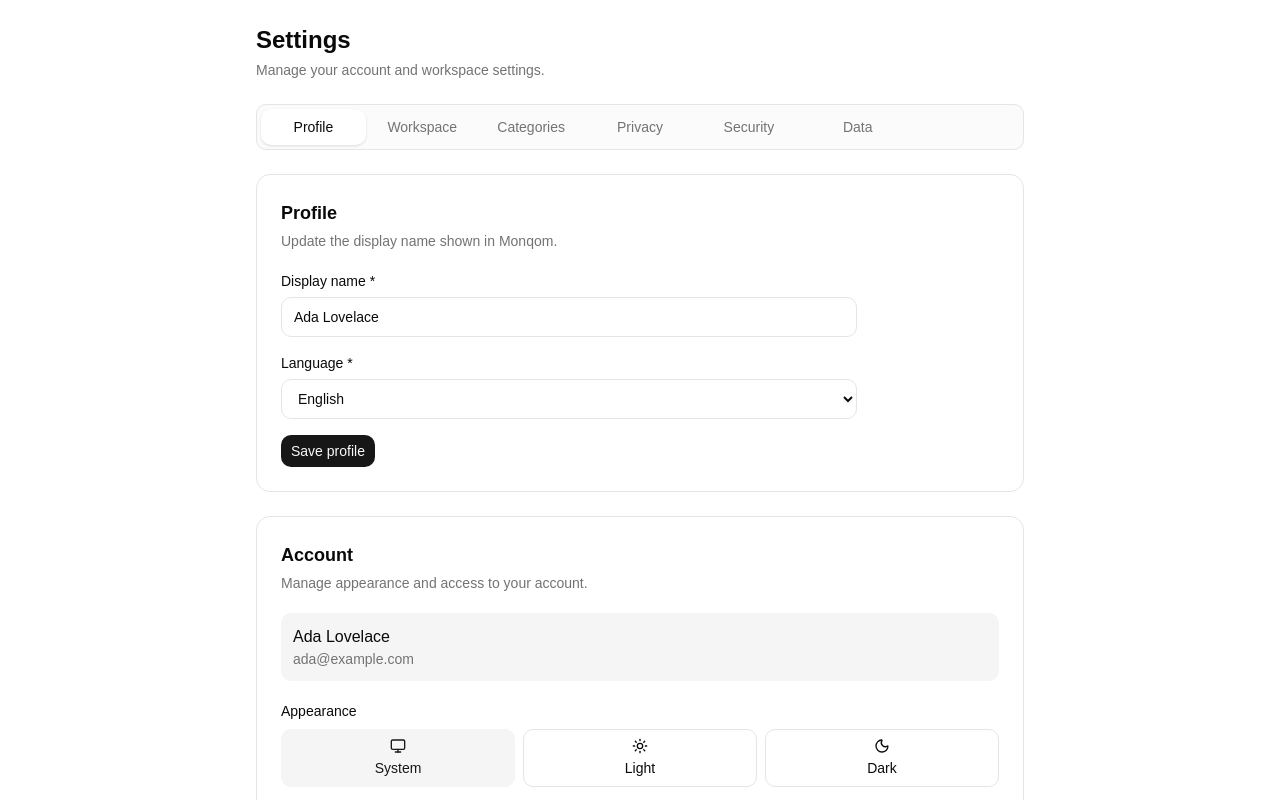
SettingsPage › saves workspace name and timezone
Click the button "Workspace".
click(422, 127)  # box [370,109,475,145]
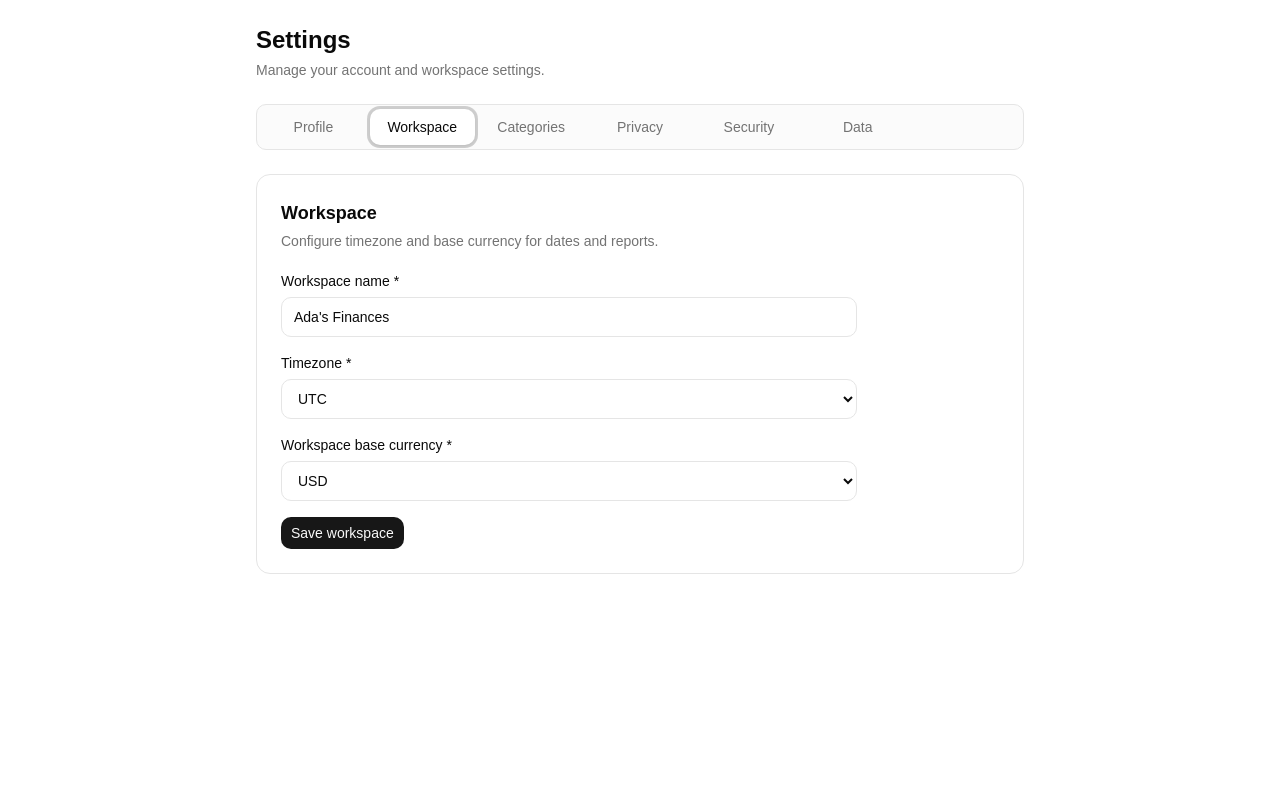
Expected: the field labelled "Workspace name" holds "Ada's Finances"
Replace the text in the field labelled "Workspace name" with " Household budget " at (569, 317), box [281,297,857,337]
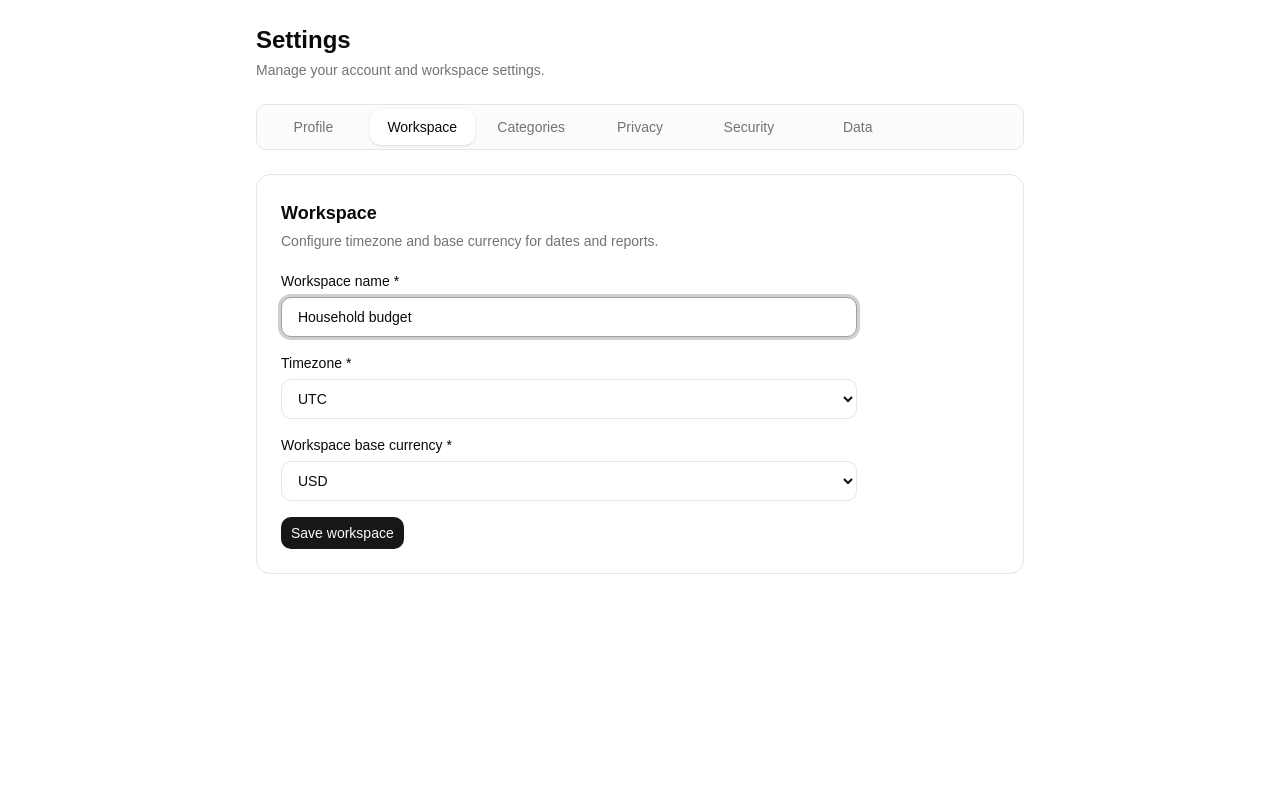
Select "Europe/Warsaw" in the dropdown labelled "Timezone" at (569, 399), box [281,379,857,419]
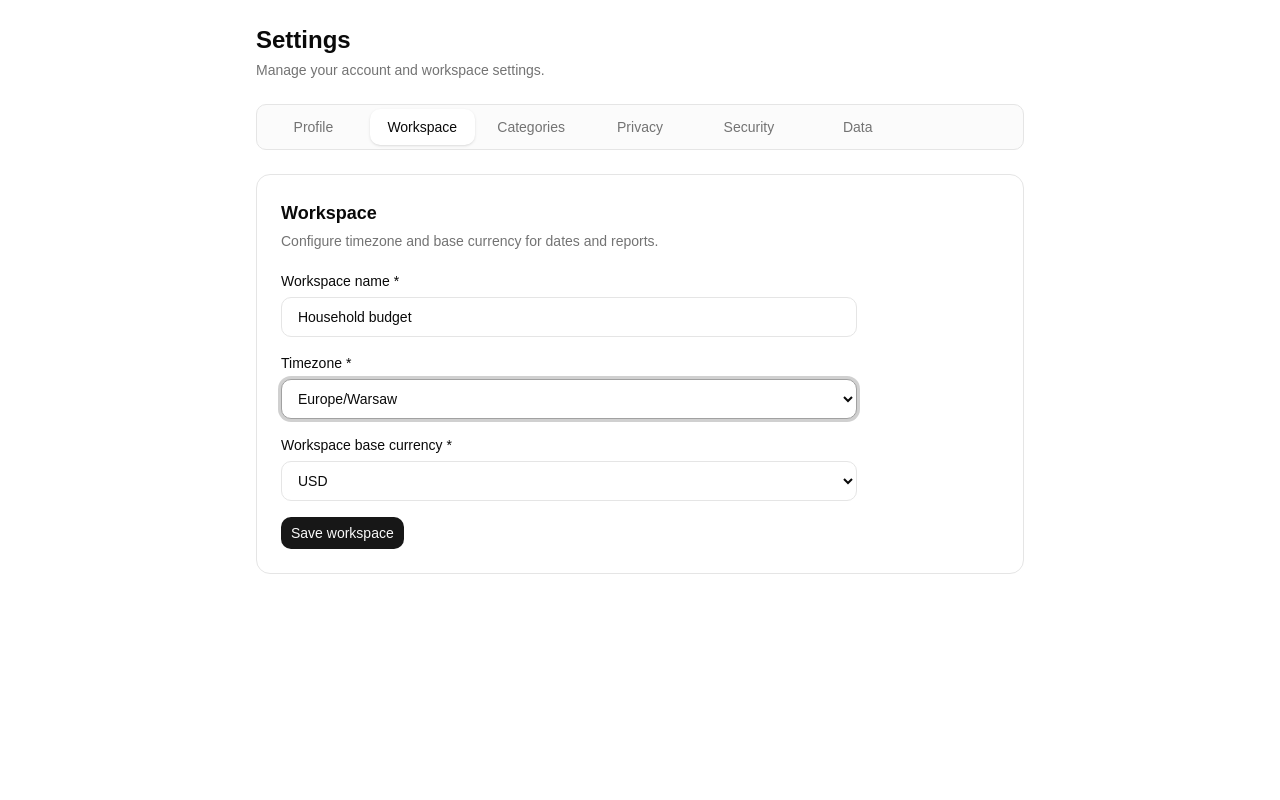
Click the button "Save workspace".
click(342, 533)  # box [281,517,404,549]
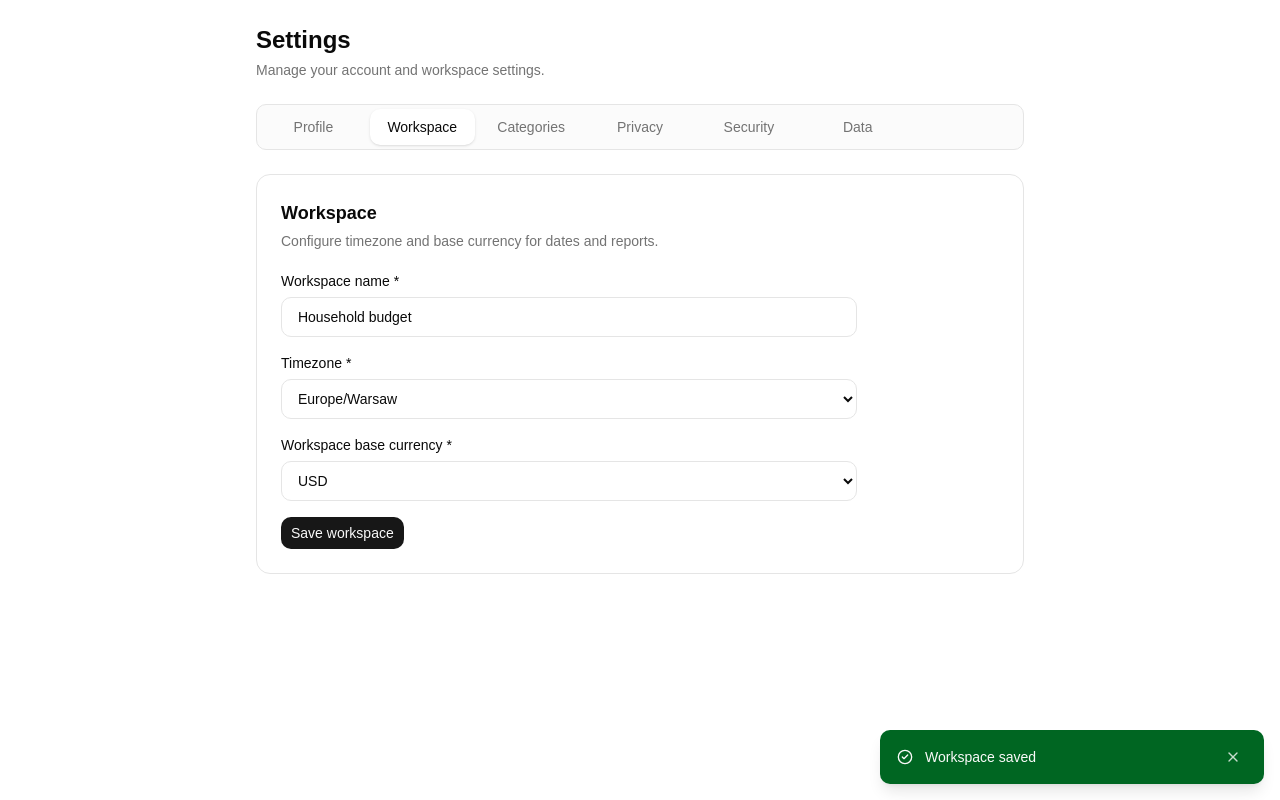
Expected: the message reads "Workspace saved", [925,749,1036,765]
